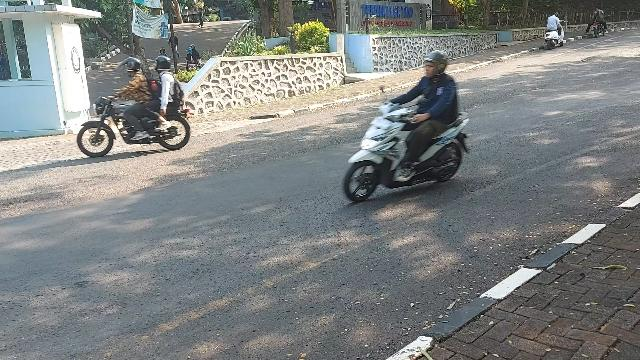helm: (426, 51, 448, 77), (119, 58, 141, 76), (155, 57, 172, 72)
motor: (345, 86, 472, 204), (79, 97, 194, 159)
